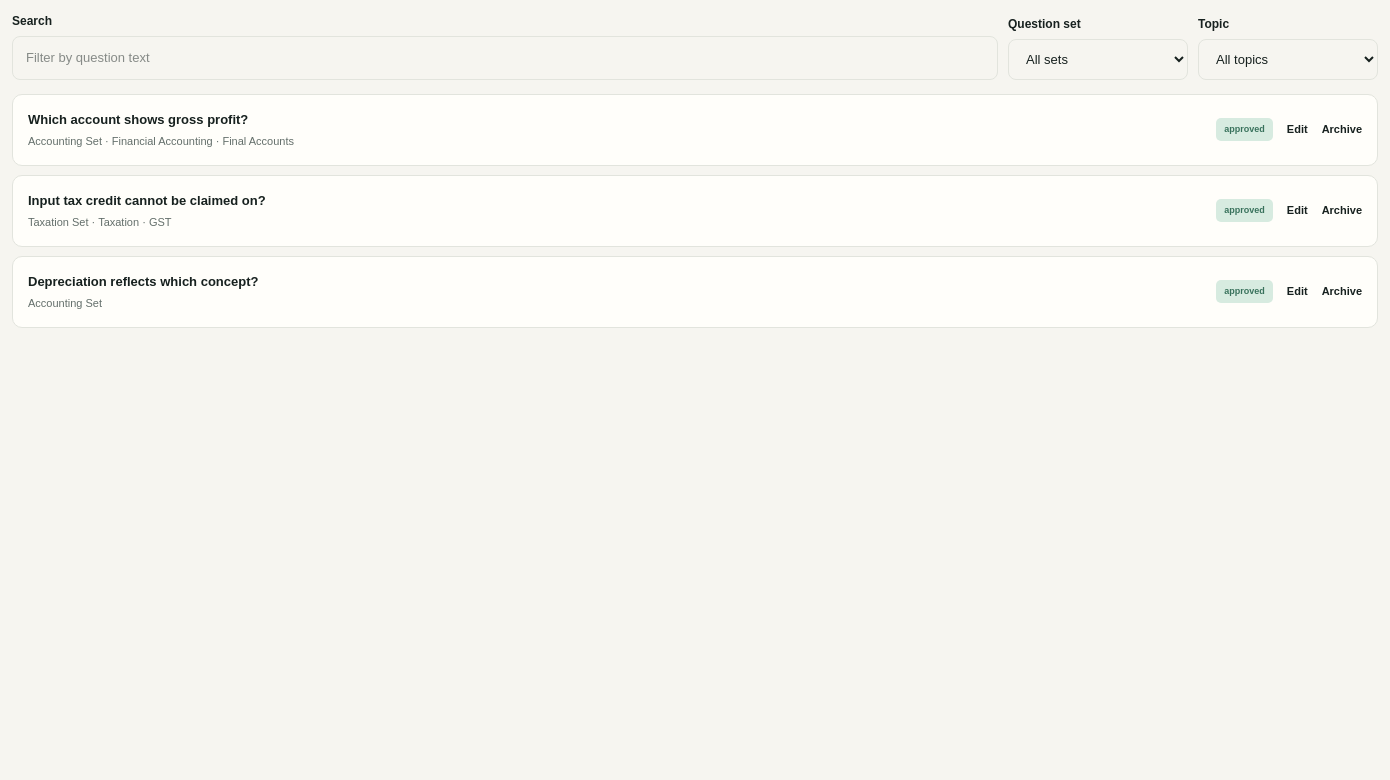
Test case: QuestionBankList › edits only the question that was opened
Click the button "Edit" in the row of "Input tax credit cannot be claimed on?" at point(1297, 211), box x1=1287 y1=202 x2=1308 y2=219
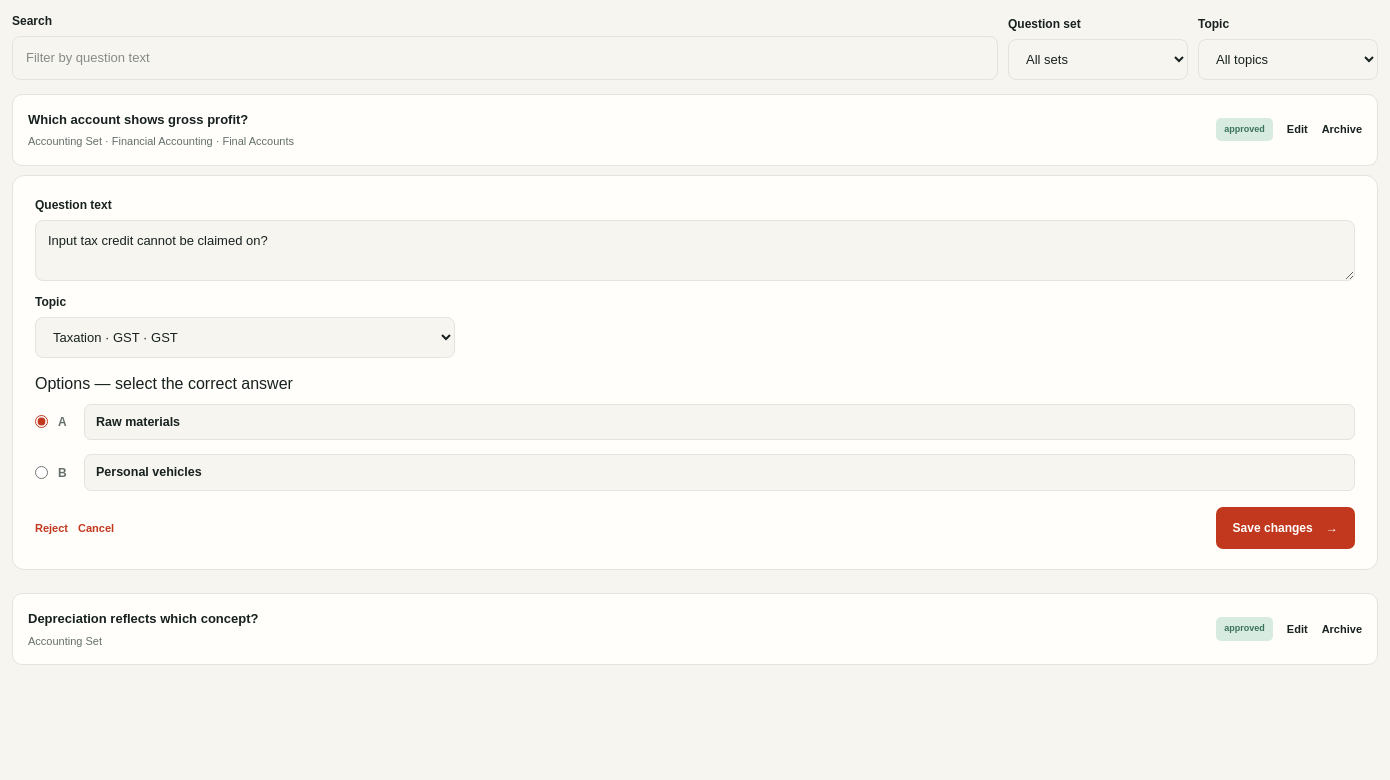
Expected: the text "Which account shows gross profit?" is shown, x1=28 y1=112 x2=248 y2=126
Expected: the text box showing "Input tax credit" is shown, x1=35 y1=220 x2=1355 y2=280
Expected: the number of buttons "Save changes →" is 1, x1=1216 y1=507 x2=1355 y2=549
